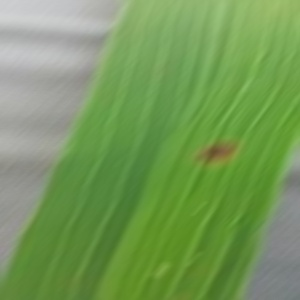Bacterial_Leaf_Blight: (191, 134, 243, 169)
